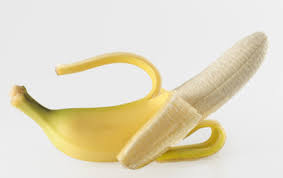banana: (10, 27, 271, 170)
